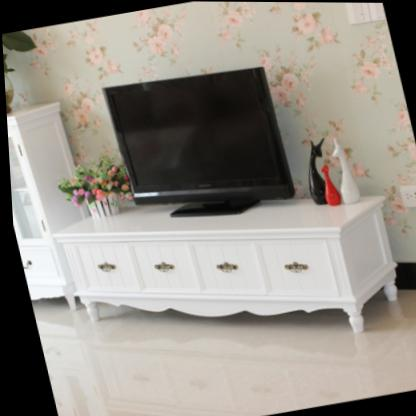Ceramic floor: (28, 288, 416, 416)
TV stand: (50, 196, 392, 331)
